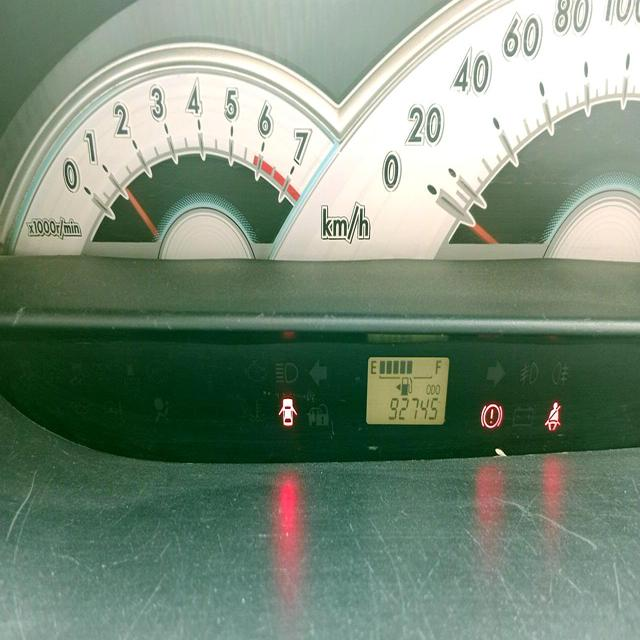odometer: (385, 393, 440, 422)
